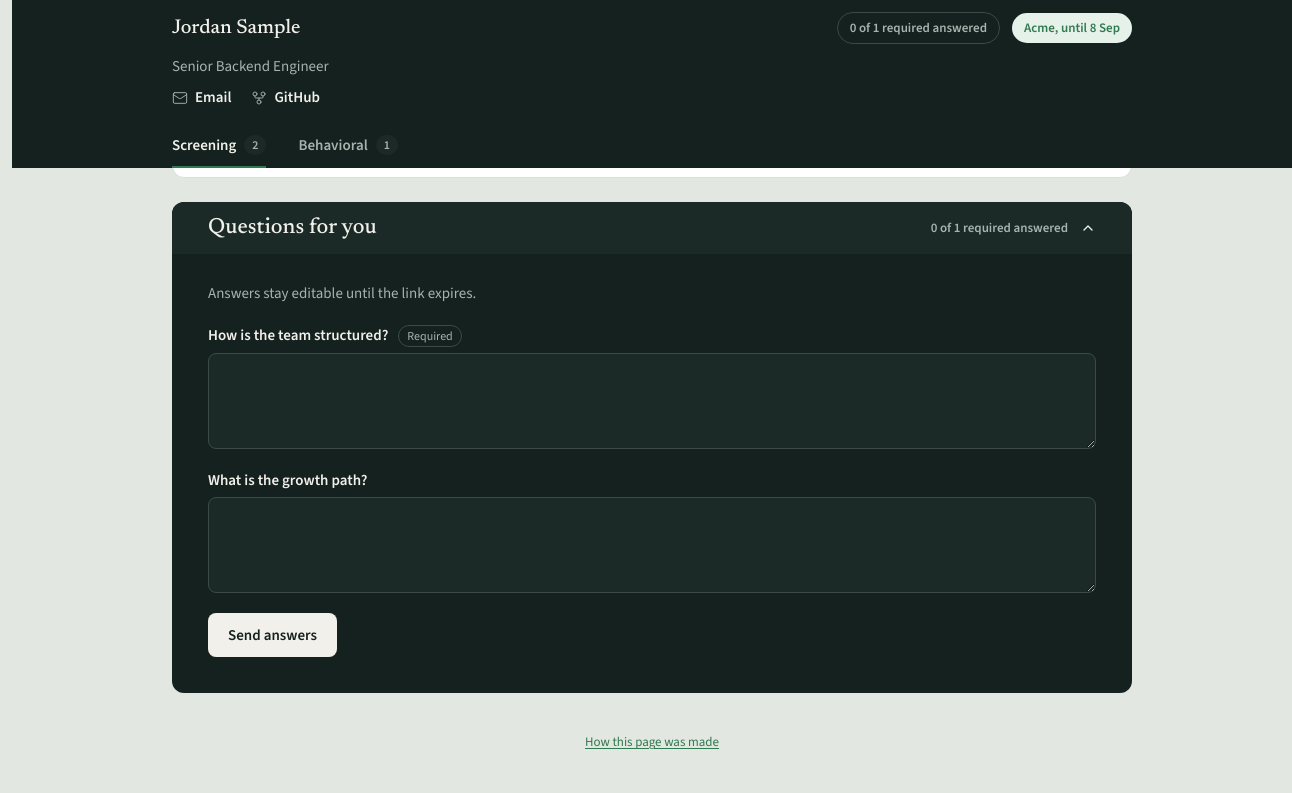
Test: SessionPage › shows field errors on 422
(page scrolled)
Expected: the heading "Jordan Sample" is shown, [172,18,300,38]
In the text box labelled "How is the team structured? Required": coordinates (652, 401) [208,353,1096,449], type "x"
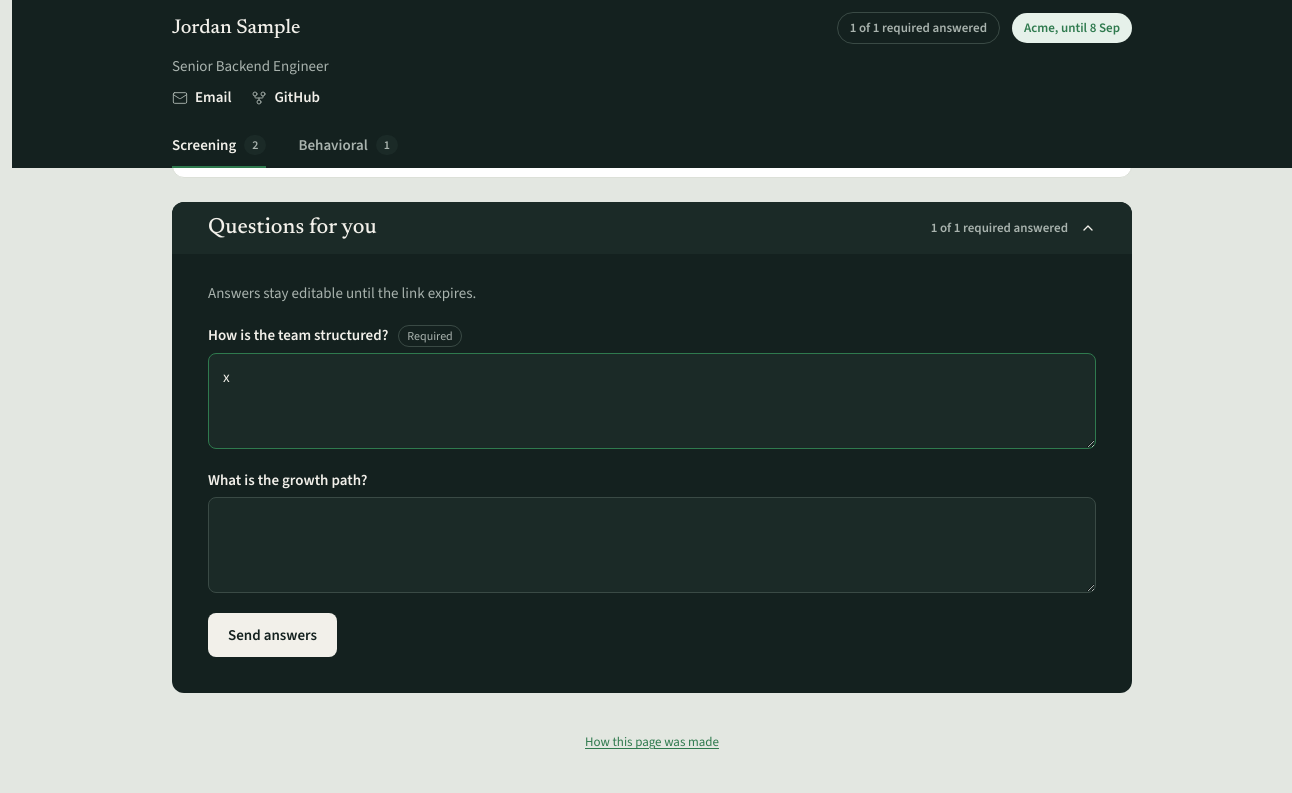
Click the button "Send answers": coordinates (272, 635) [208,613,337,657]
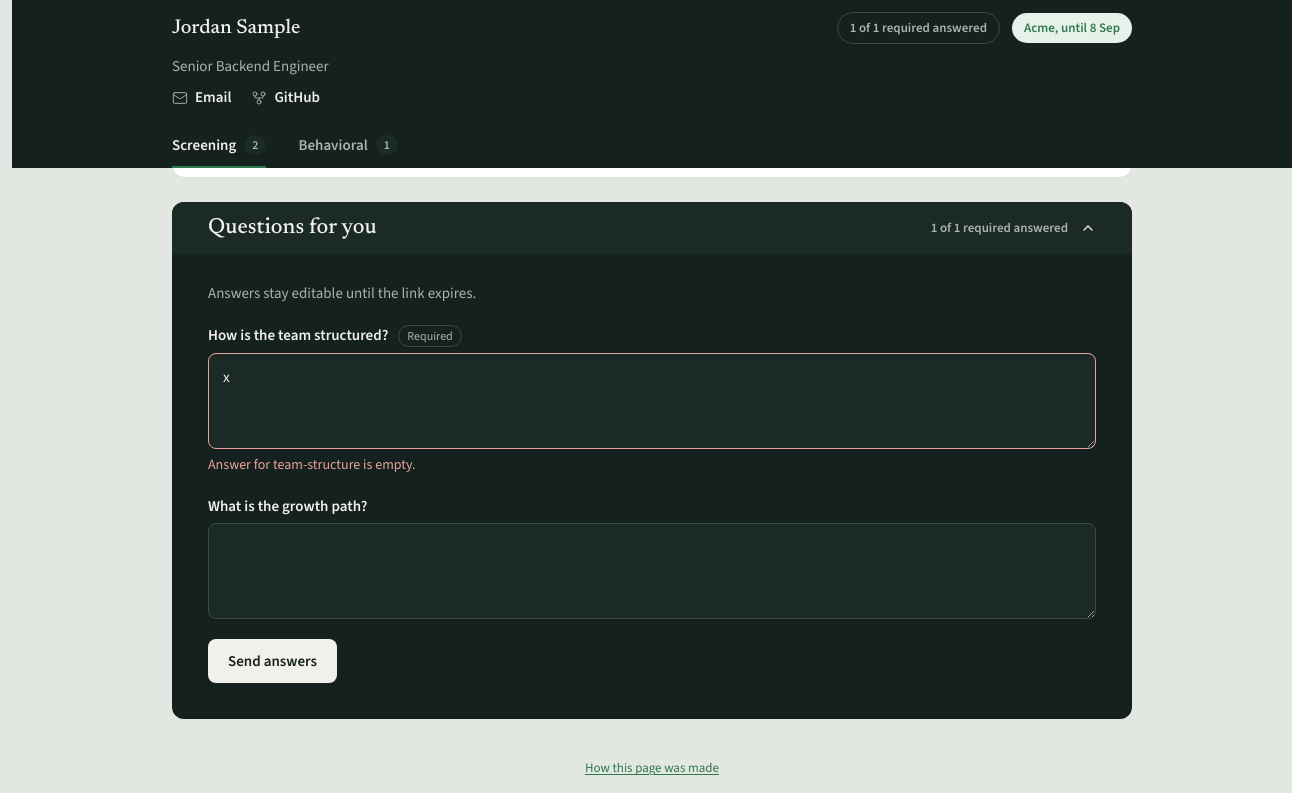
Expected: the text "Answer for team-structure is empty." is shown, [208,455,416,474]
